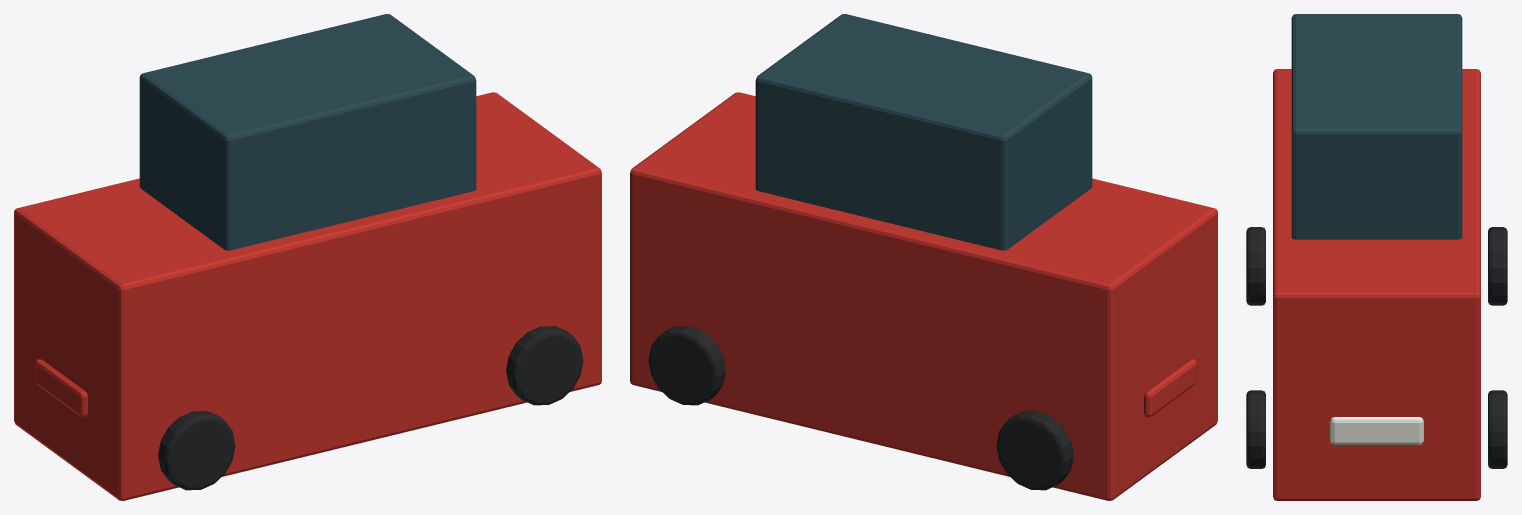
Rendered from Vehicle_002.glb.
The picture shows the model from 3 angles, left to right: view 1: azimuth 30°, elevation 25°; view 2: azimuth 150°, elevation 25°; view 3: azimuth 270°, elevation 25°; orthographic projection. The views are drawn at different scales.
Visible parts, largest first — view 1: Vehicle_002; view 2: Vehicle_002; view 3: Vehicle_002.
Part boxes in pixels (x1,y1,x2,y2): Vehicle_002: (14, 14, 601, 500); Vehicle_002: (630, 14, 1217, 500); Vehicle_002: (1246, 14, 1507, 500).
Bounding box in the file's own units: 5.08 × 3.2 × 2.38.
